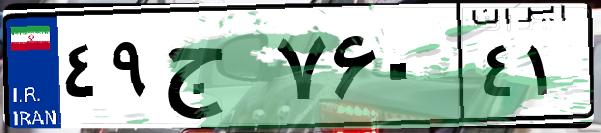0: (385, 28, 445, 110)
1: (525, 38, 570, 115)
4: (57, 26, 110, 100), (475, 38, 525, 113)
6: (330, 28, 385, 110)
7: (270, 28, 330, 110)
9: (110, 28, 158, 98)
ج: (158, 20, 270, 120)
